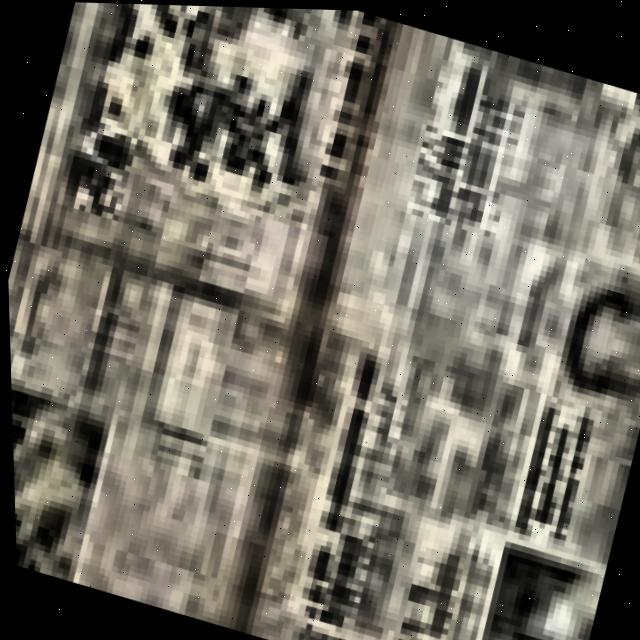paper: (6, 2, 640, 640)
